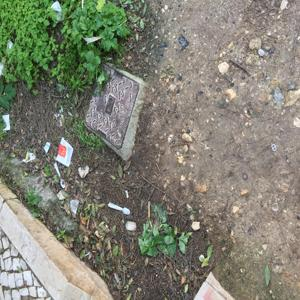metal: (266, 141, 289, 157)
paper: (53, 134, 84, 175)
plastic: (51, 162, 75, 194), (101, 195, 135, 217), (49, 1, 70, 28), (78, 29, 106, 46), (4, 37, 26, 58), (1, 107, 14, 136)
